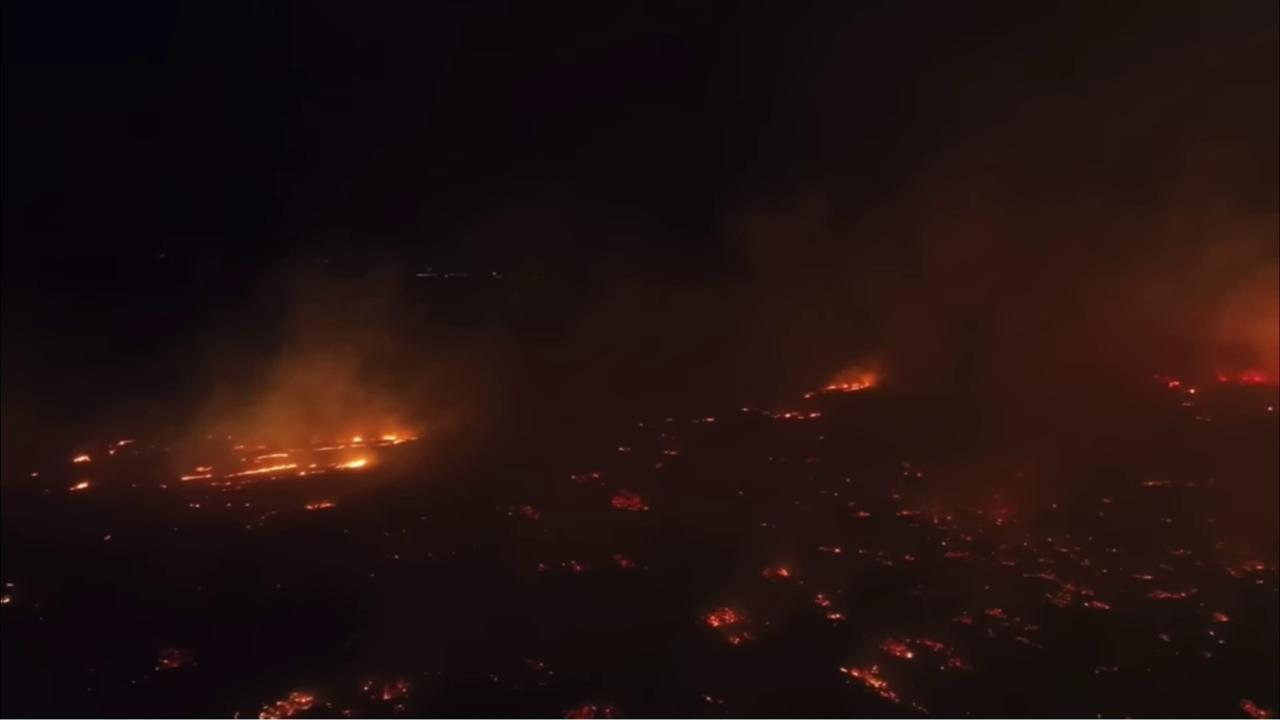fire: (178, 428, 425, 487), (834, 662, 906, 708), (1020, 569, 1096, 607), (253, 687, 319, 719), (919, 638, 966, 671), (693, 603, 755, 627), (608, 487, 652, 516), (820, 372, 873, 396), (813, 591, 848, 622), (1223, 557, 1266, 582), (878, 632, 915, 661), (563, 700, 622, 718), (1236, 695, 1277, 719), (378, 678, 412, 704), (569, 468, 606, 488), (1144, 588, 1188, 604), (776, 408, 825, 422), (757, 564, 792, 583), (108, 434, 136, 457), (727, 631, 759, 649), (988, 504, 1011, 528), (298, 501, 340, 514), (612, 551, 633, 573), (516, 503, 543, 520), (982, 604, 1010, 620), (1087, 597, 1113, 613), (66, 479, 92, 494), (1209, 610, 1234, 624), (70, 451, 94, 465), (954, 610, 975, 625), (1136, 478, 1171, 487), (941, 550, 971, 560), (818, 543, 842, 555), (1240, 374, 1266, 384), (894, 509, 920, 518), (570, 563, 585, 575), (856, 507, 871, 517), (801, 391, 816, 400), (537, 563, 548, 575), (29, 468, 42, 478), (1165, 380, 1181, 388), (902, 553, 917, 561), (0, 596, 12, 606), (703, 417, 717, 425), (1215, 375, 1228, 383), (1189, 387, 1196, 396), (1267, 404, 1274, 411)
smoke: (0, 89, 1280, 718)
